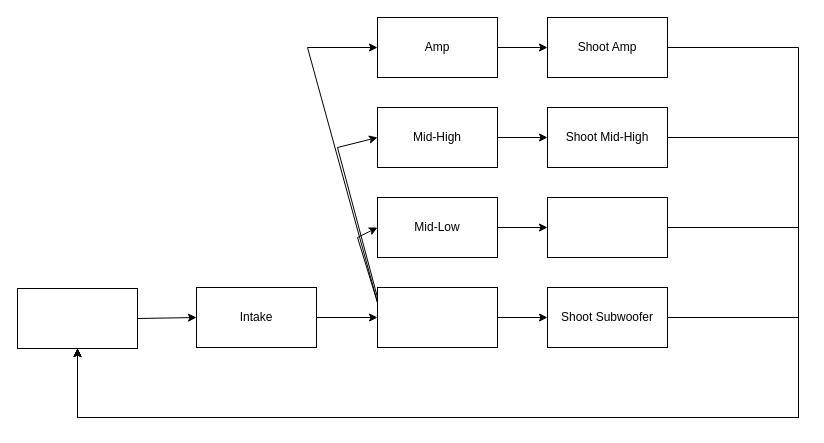
Image size: 824x443. Some labels were removed from this diagram. The box of each missing label's shape, as (x1, y1, x2, y2) in pixels:
Home: (16, 288, 138, 348)
Shoot Mid-Low: (546, 196, 668, 258)
Subwoofer: (376, 286, 498, 348)
